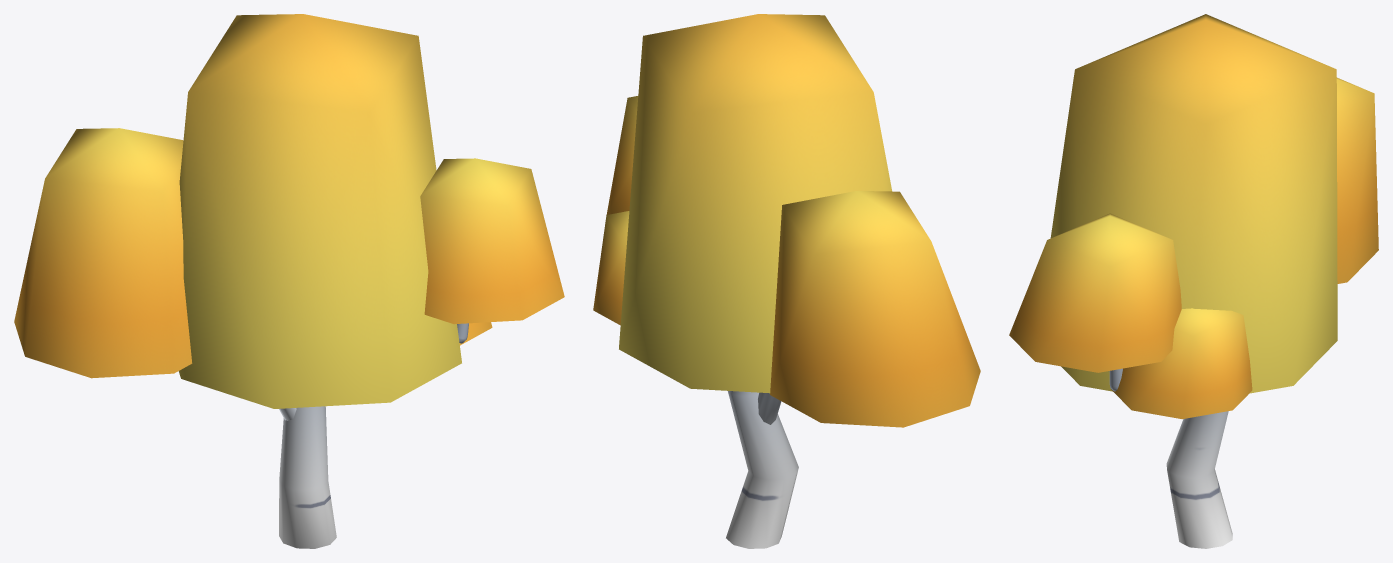
File: Low_Poly_Forest_treeBlob02.glb
The picture shows the model from 3 angles, left to right: view 1: azimuth 30°, elevation 25°; view 2: azimuth 150°, elevation 25°; view 3: azimuth 270°, elevation 25°; orthographic projection.
Visible parts, largest first — view 1: leaf_4, leaf, leaf_3, bark; view 2: leaf_4, leaf, bark, leaf_2, leaf_3; view 3: leaf_4, leaf_3, leaf_2, leaf, bark.
Part boxes in pixels (x1,y1,x2,y2): leaf_4: [178, 14, 461, 408]; leaf: [14, 128, 192, 378]; leaf_3: [420, 158, 564, 324]; bark: [279, 323, 468, 548]; leaf_4: [619, 14, 891, 393]; leaf: [770, 191, 980, 427]; bark: [726, 391, 798, 548]; leaf_2: [593, 211, 629, 325]; leaf_3: [606, 96, 638, 214]; leaf_4: [1050, 14, 1337, 393]; leaf_3: [1009, 213, 1181, 372]; leaf_2: [1111, 308, 1252, 419]; leaf: [1336, 77, 1378, 283]; bark: [1109, 368, 1232, 548].
Bounding box in the file's own units: 6.46 × 7.32 × 4.75.
1 material, 1 textured.
